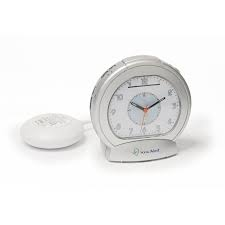alarm_clock: (90, 52, 190, 161)
